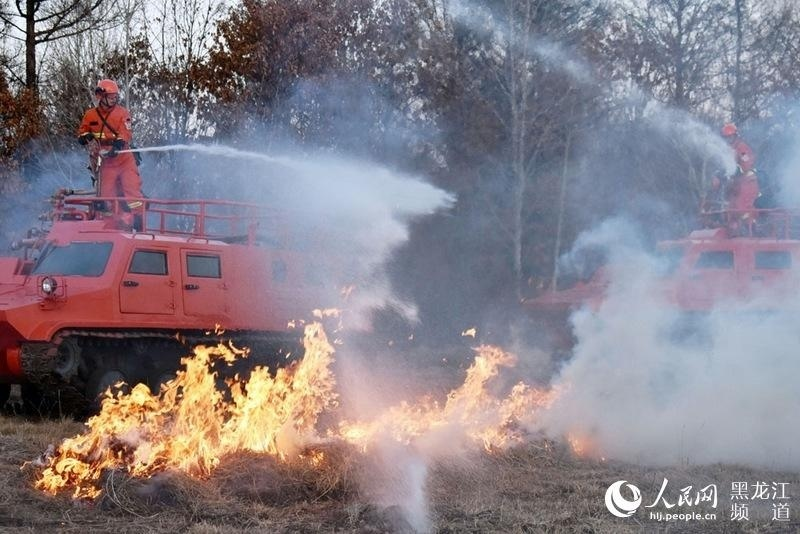fire: (42, 298, 350, 493), (337, 321, 562, 452)
